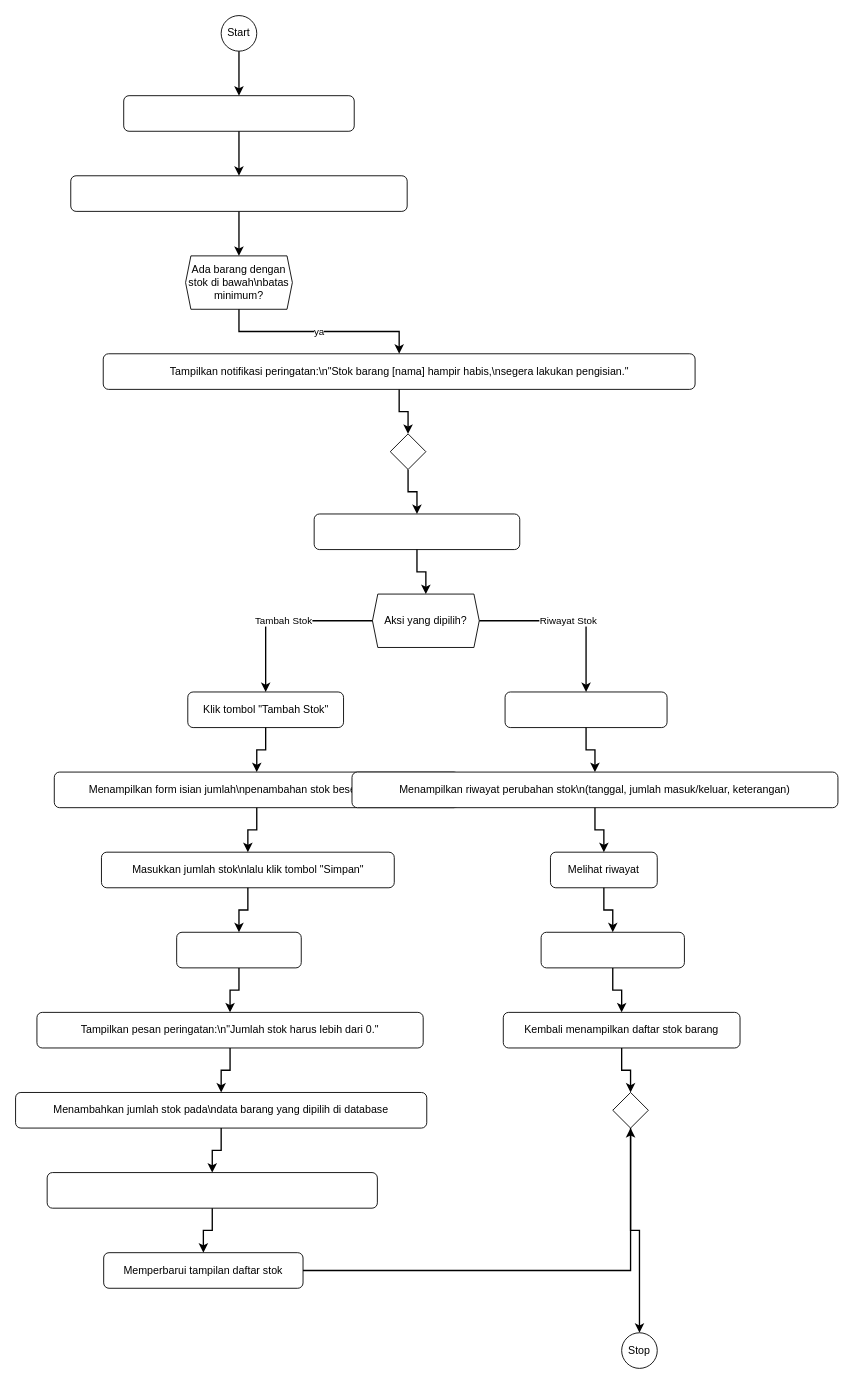
Some shapes in this 854 by 1384 pixel diagram are drawn without their labels. Each missing label, with the box of its shape:
Klik tombol "Riwayat Stok": (504, 691, 667, 728)
Menampilkan daftar barang beserta jumlah stok saat ini: (70, 175, 407, 211)
Menampilkan pesan:\n"Stok barang berhasil diperbarui": (46, 1172, 377, 1208)
Menutup halaman riwayat: (540, 931, 684, 968)
Pilih barang tertentu dari daftar: (313, 513, 520, 550)
Pilih menu "Kelola Stok" di dashboard: (123, 95, 354, 131)
Validasi jumlah stok: (176, 931, 301, 968)
